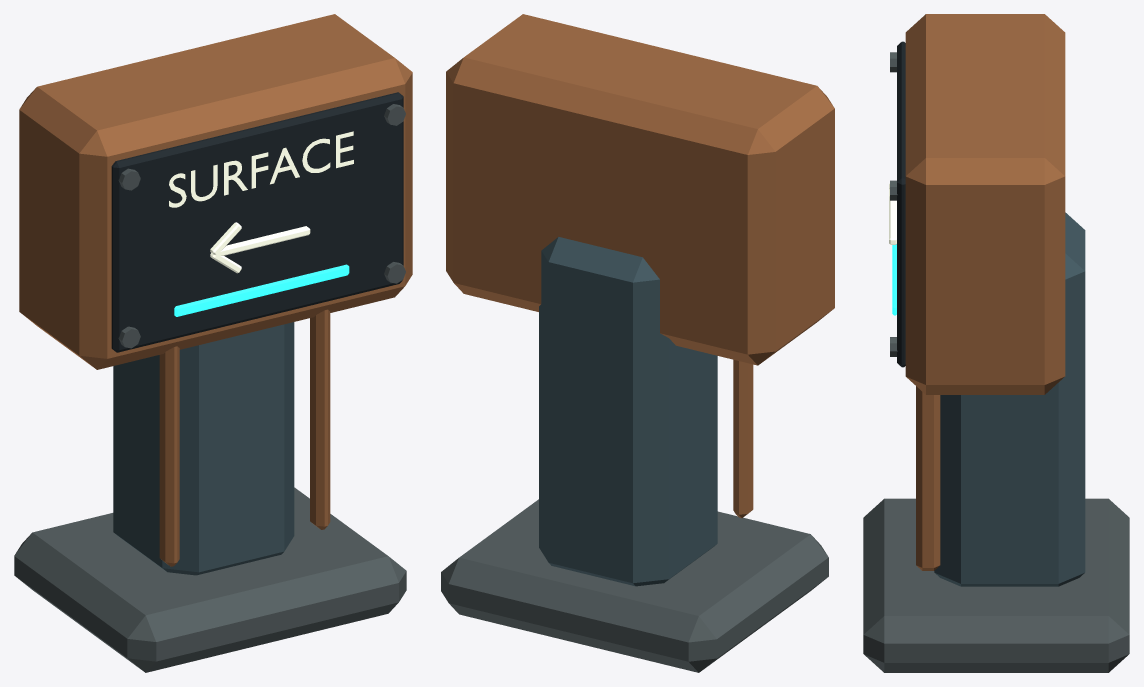
Rendered from e10a-vault-return-pedestal.glb.
3 renders of one model, left to right at view 1: azimuth 30°, elevation 25°; view 2: azimuth 150°, elevation 25°; view 3: azimuth 270°, elevation 25°, orthographic.
Visible parts, largest first — view 1: E10a surface return pedestal; view 2: E10a surface return pedestal; view 3: E10a surface return pedestal.
Boxes of the visible parts, x1=… form: E10a surface return pedestal: x1=14, y1=14, x2=412, y2=672; E10a surface return pedestal: x1=441, y1=14, x2=834, y2=672; E10a surface return pedestal: x1=863, y1=14, x2=1129, y2=672.
Size of the model in its own units: 0.86 by 1.31 by 0.6.
